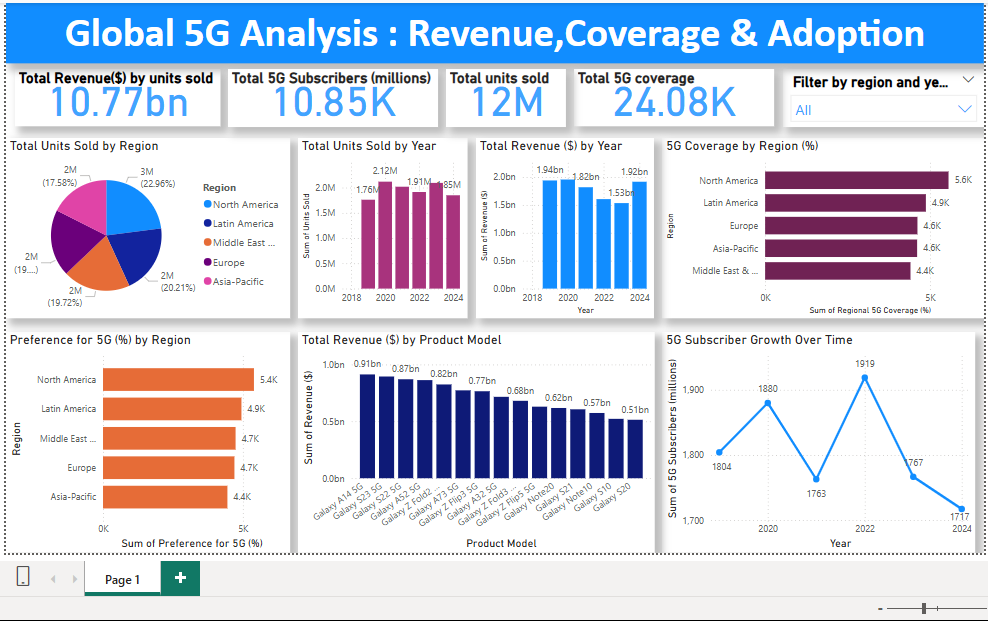

What the dashboard file says about the page in this screenshot:
{"tool":"powerbi","page":{"name":"Page 1","canvas":[1280,720],"ordinal":0},"visuals":[{"type":"barChart","title":"5G Coverage by Region (%)","fields":{"Category":["Cleaned_Expanded_Dataset.Region"],"Y":["Sum(Cleaned_Expanded_Dataset.Regional 5G Coverage (%))"]},"box":[858.2,177.1,421.9,236.2],"z":0},{"type":"barChart","title":"Preference for 5G (%) by Region","fields":{"Category":["Cleaned_Expanded_Dataset.Region"],"Y":["Sum(Cleaned_Expanded_Dataset.Preference for 5G (%))"]},"box":[0,430.6,371.5,289.4],"z":1000},{"type":"lineChart","title":"5G Subscriber Growth Over Time","fields":{"Category":["Cleaned_Expanded_Dataset.Year"],"Y":["Sum(Cleaned_Expanded_Dataset.5G Subscribers (millions))"]},"box":[858.2,430.6,410.4,289.4],"z":2000},{"type":"card","title":"Total Revenue($) by units sold","fields":{"Values":["Sum(Cleaned_Expanded_Dataset.Revenue ($))"]},"box":[11.5,86.4,269.3,74.9],"z":3000},{"type":"pieChart","title":"Total Units Sold by Region","fields":{"Y":["Sum(Cleaned_Expanded_Dataset.Units Sold)"],"Category":["Cleaned_Expanded_Dataset.Region"]},"box":[0,177.1,371.5,236.2],"z":4000},{"type":"slicer","fields":{"Values":["Cleaned_Expanded_Dataset.Region","Cleaned_Expanded_Dataset.Year"]},"box":[1016.6,86.4,263.5,76.3],"z":5000},{"type":"textbox","box":[0,0,1280.2,79.2],"z":6000},{"type":"columnChart","title":"Total Revenue ($) by Product Model","fields":{"Category":["Cleaned_Expanded_Dataset.Product Model"],"Y":["Sum(Cleaned_Expanded_Dataset.Revenue ($))"]},"box":[381.6,430.6,466.6,289.4],"z":7000},{"type":"card","title":"Total 5G Subscribers (millions) ","fields":{"Values":["Sum(Cleaned_Expanded_Dataset.5G Subscribers (millions))"]},"box":[290.9,86.4,275,76.3],"z":8000},{"type":"card","title":"Total 5G coverage","fields":{"Values":["Sum(Cleaned_Expanded_Dataset.Regional 5G Coverage (%))"]},"box":[743,86.4,262.1,74.9],"z":9000},{"type":"columnChart","title":"Total Units Sold by Year","fields":{"Category":["Cleaned_Expanded_Dataset.Year"],"Y":["Sum(Cleaned_Expanded_Dataset.Units Sold)"]},"box":[381.6,177.1,221.8,236.2],"z":10000},{"type":"card","title":"Total units sold","fields":{"Values":["Sum(Cleaned_Expanded_Dataset.Units Sold)"]},"box":[576,86.4,157,76.3],"z":11000},{"type":"columnChart","title":"Total Revenue ($) by Year","fields":{"Y":["Sum(Cleaned_Expanded_Dataset.Revenue ($))"],"Category":["Cleaned_Expanded_Dataset.Year"]},"box":[614.9,177.1,233.3,236.2],"z":12000}]}

Visuals, with their boxes on the page's 1280x720 design canvas (x1, y1, x2, y2). These are canvas units, not pixel positions in the 988x621 screenshot, which may show the page scaled, cropped or inside an application window:
"5G Coverage by Region (%)" barChart: [858, 177, 1280, 413]
"Preference for 5G (%) by Region" barChart: [0, 431, 372, 720]
"5G Subscriber Growth Over Time" lineChart: [858, 431, 1269, 720]
"Total Revenue($) by units sold" card: [12, 86, 281, 161]
"Total Units Sold by Region" pieChart: [0, 177, 372, 413]
slicer - Cleaned_Expanded_Dataset.Region x Cleaned_Expanded_Dataset.Year: [1017, 86, 1280, 163]
textbox: [0, 0, 1280, 79]
"Total Revenue ($) by Product Model" columnChart: [382, 431, 848, 720]
"Total 5G Subscribers (millions) " card: [291, 86, 566, 163]
"Total 5G coverage" card: [743, 86, 1005, 161]
"Total Units Sold by Year" columnChart: [382, 177, 603, 413]
"Total units sold" card: [576, 86, 733, 163]
"Total Revenue ($) by Year" columnChart: [615, 177, 848, 413]
